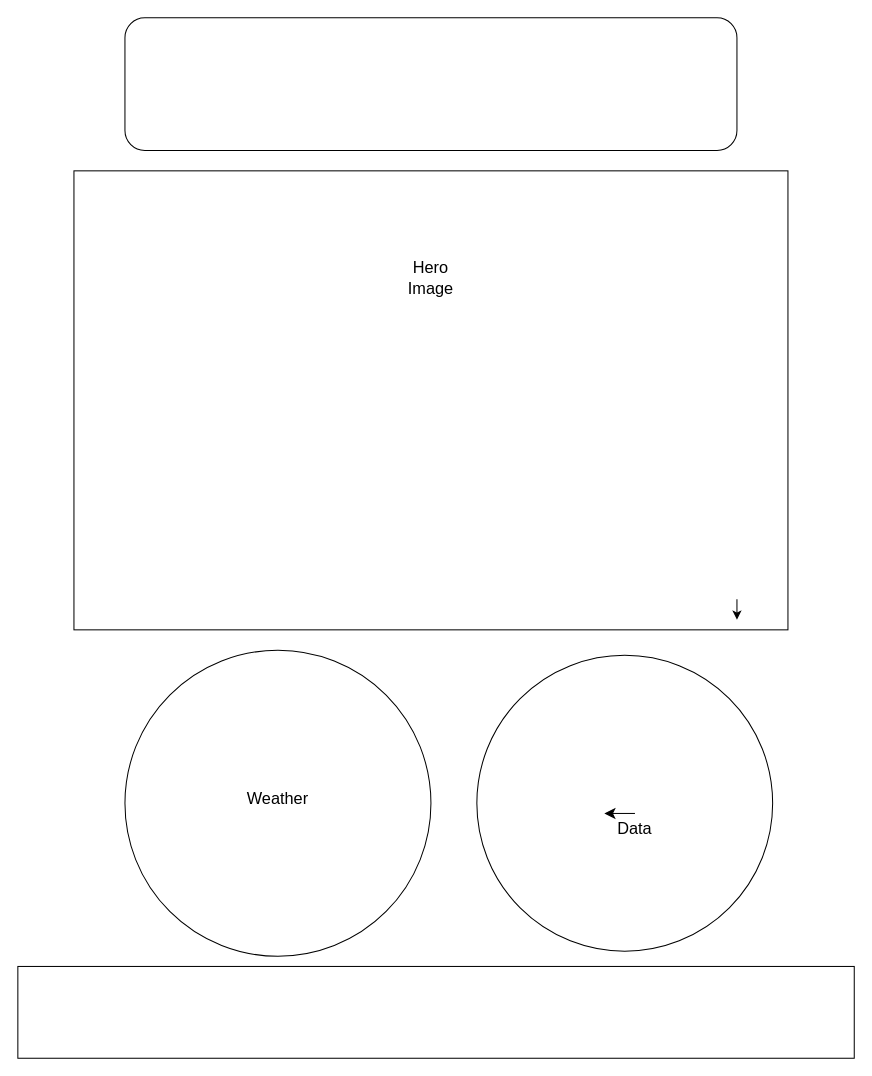
Some shapes in this 872 by 1076 pixel diagram are drawn without their labels. Here are the shapes that lost their labels. From the top down, the centre of each, then its label:
(430,83): title
(435,1011): Footer
